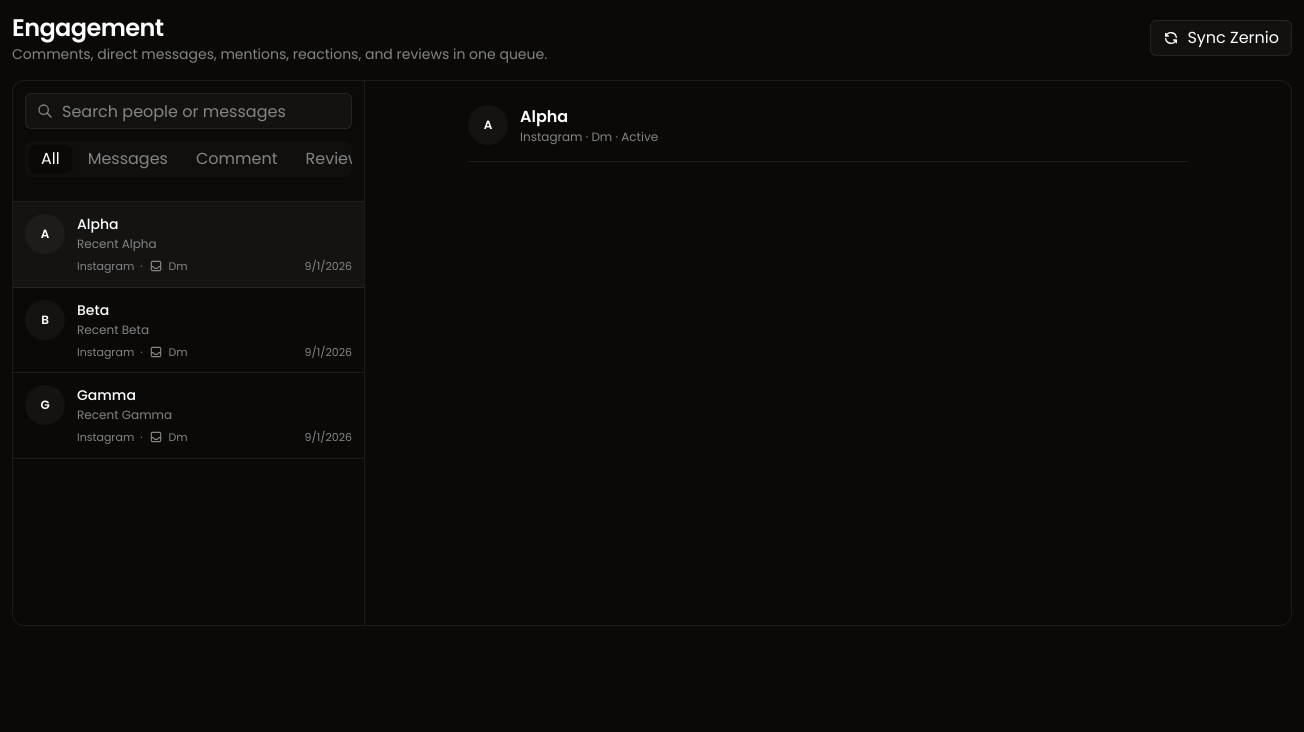
UnifiedInbox › does not replace a newer successful conversation with a stale error
Click the button "B Beta Recent Beta instagram · dm 9/1/2026": (45,320) [13,288,364,373]
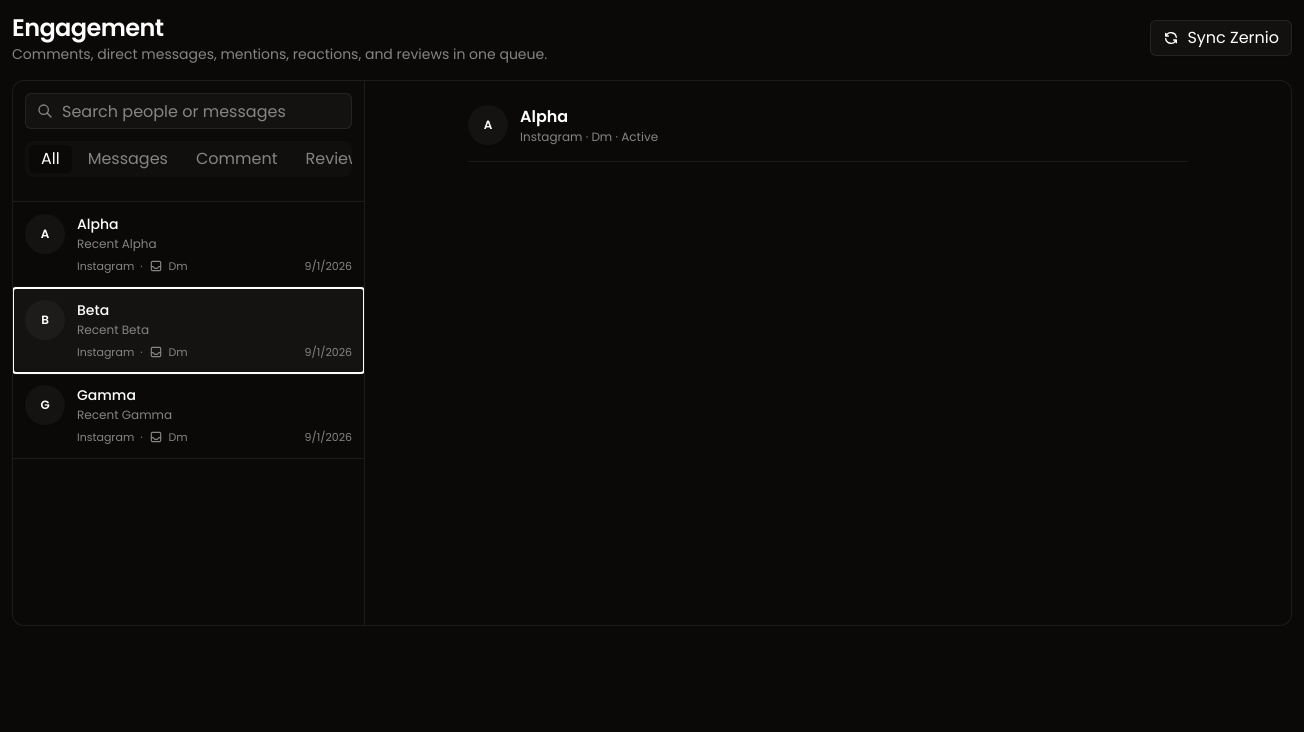
Click the button "G Gamma Recent Gamma instagram · dm 9/1/2026": (45,405) [13,373,364,458]
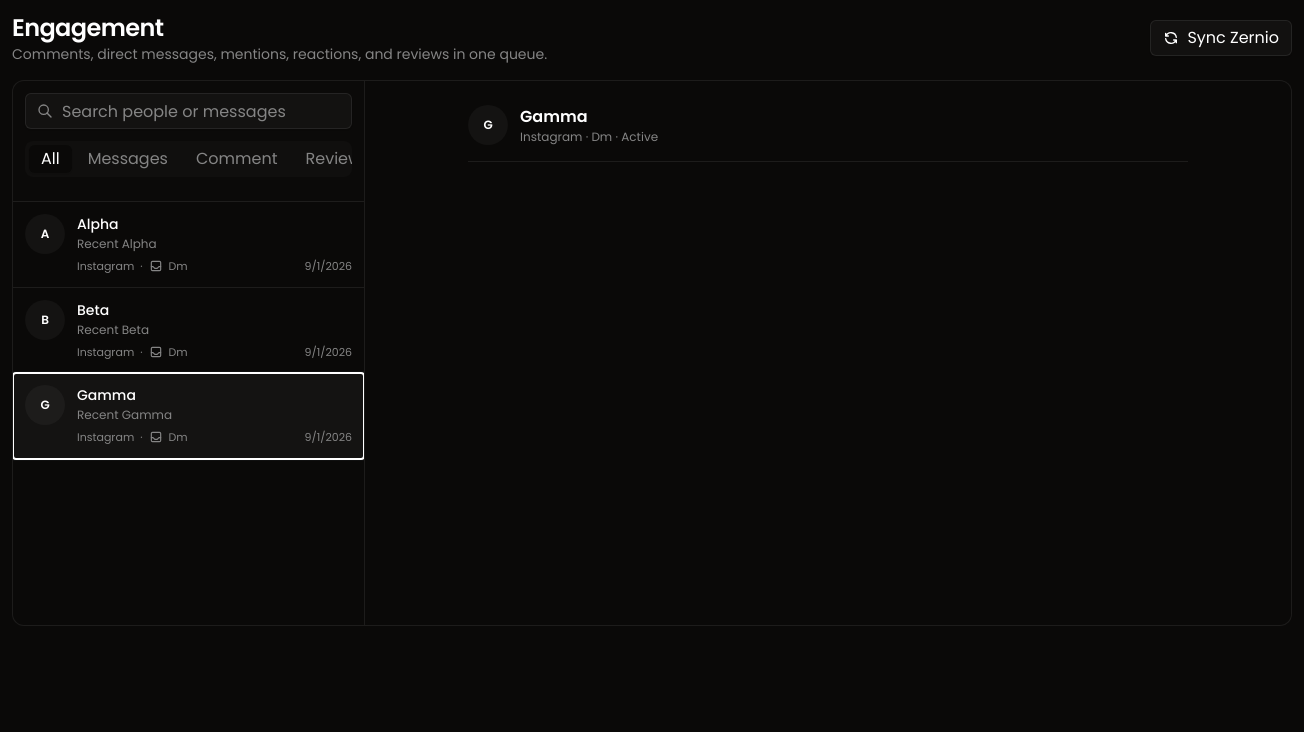
expect the heading "Gamma" is shown: met, box [520,105,588,128]
